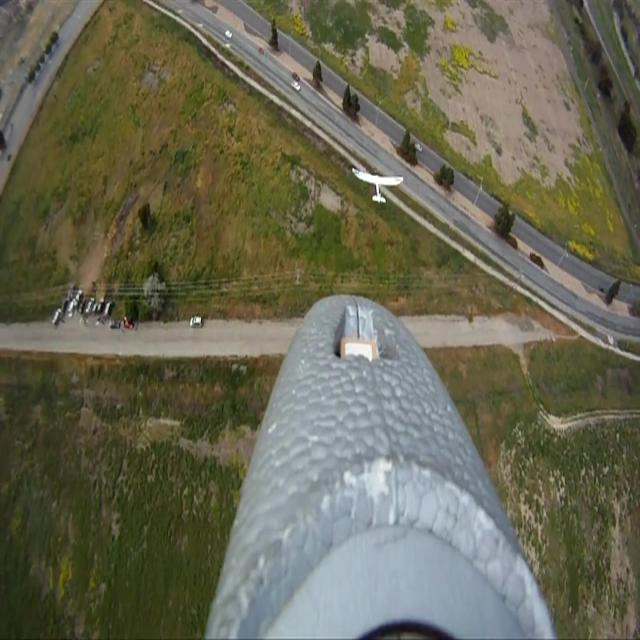iha: (352, 165, 404, 206)
